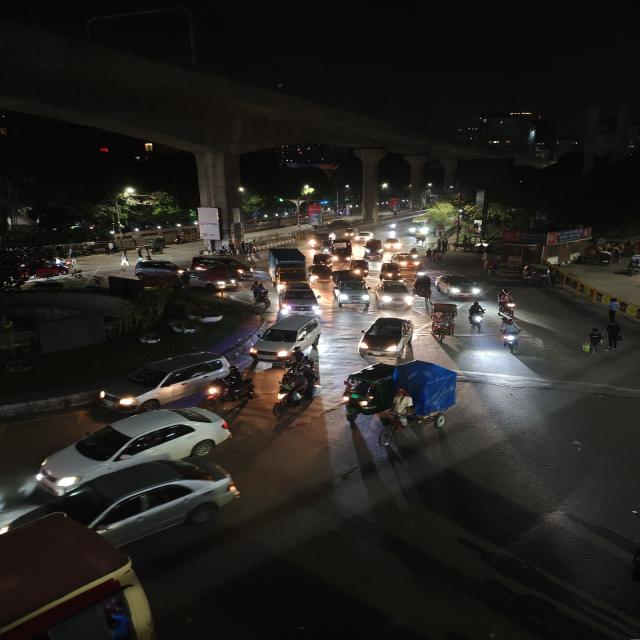bus: (0, 518, 160, 640), (407, 218, 432, 235)
car: (0, 453, 239, 550), (23, 402, 236, 496), (95, 348, 230, 410), (246, 312, 323, 366), (354, 314, 417, 360), (329, 272, 372, 308), (434, 271, 483, 301), (279, 281, 321, 314), (194, 262, 243, 290), (375, 277, 414, 310), (132, 258, 190, 280), (307, 264, 334, 286), (363, 238, 386, 259), (330, 239, 354, 259), (393, 254, 422, 268), (382, 236, 402, 251), (357, 230, 375, 240)
cng: (340, 361, 400, 423), (378, 262, 402, 282), (311, 251, 336, 267), (340, 226, 356, 240)
motorcycle: (269, 357, 321, 421), (210, 365, 260, 407), (498, 320, 524, 352), (465, 299, 488, 333), (495, 288, 519, 318), (248, 280, 271, 309)
pedestrian: (580, 326, 604, 357), (604, 320, 624, 350), (604, 296, 624, 322)
rickshaw: (368, 403, 453, 449), (426, 302, 461, 342), (412, 275, 433, 305), (481, 255, 503, 278)
truck: (266, 247, 308, 283)
